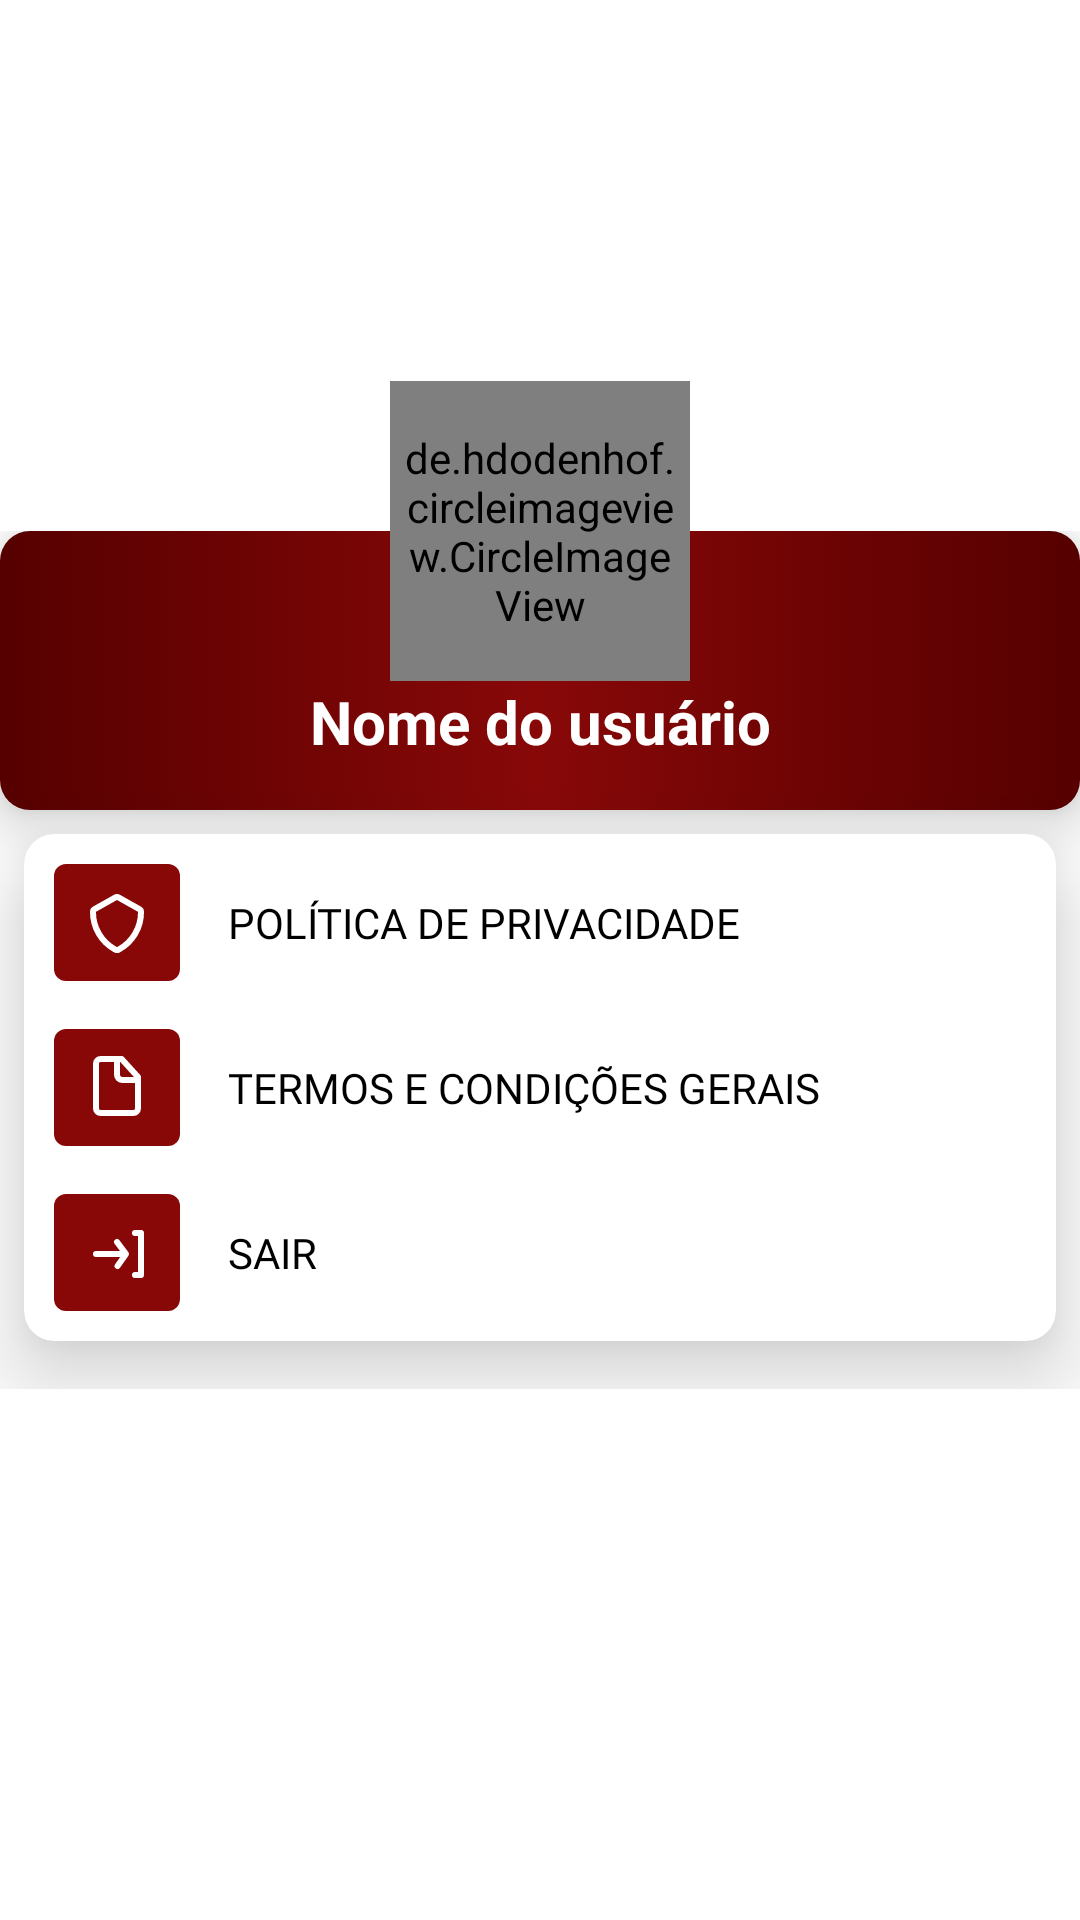

Named icons in this screenshot (1080*1920) and their centers, (x,y):
exit account: (117,1252)
privacy menu: (117,922)
use term menu: (117,1087)
